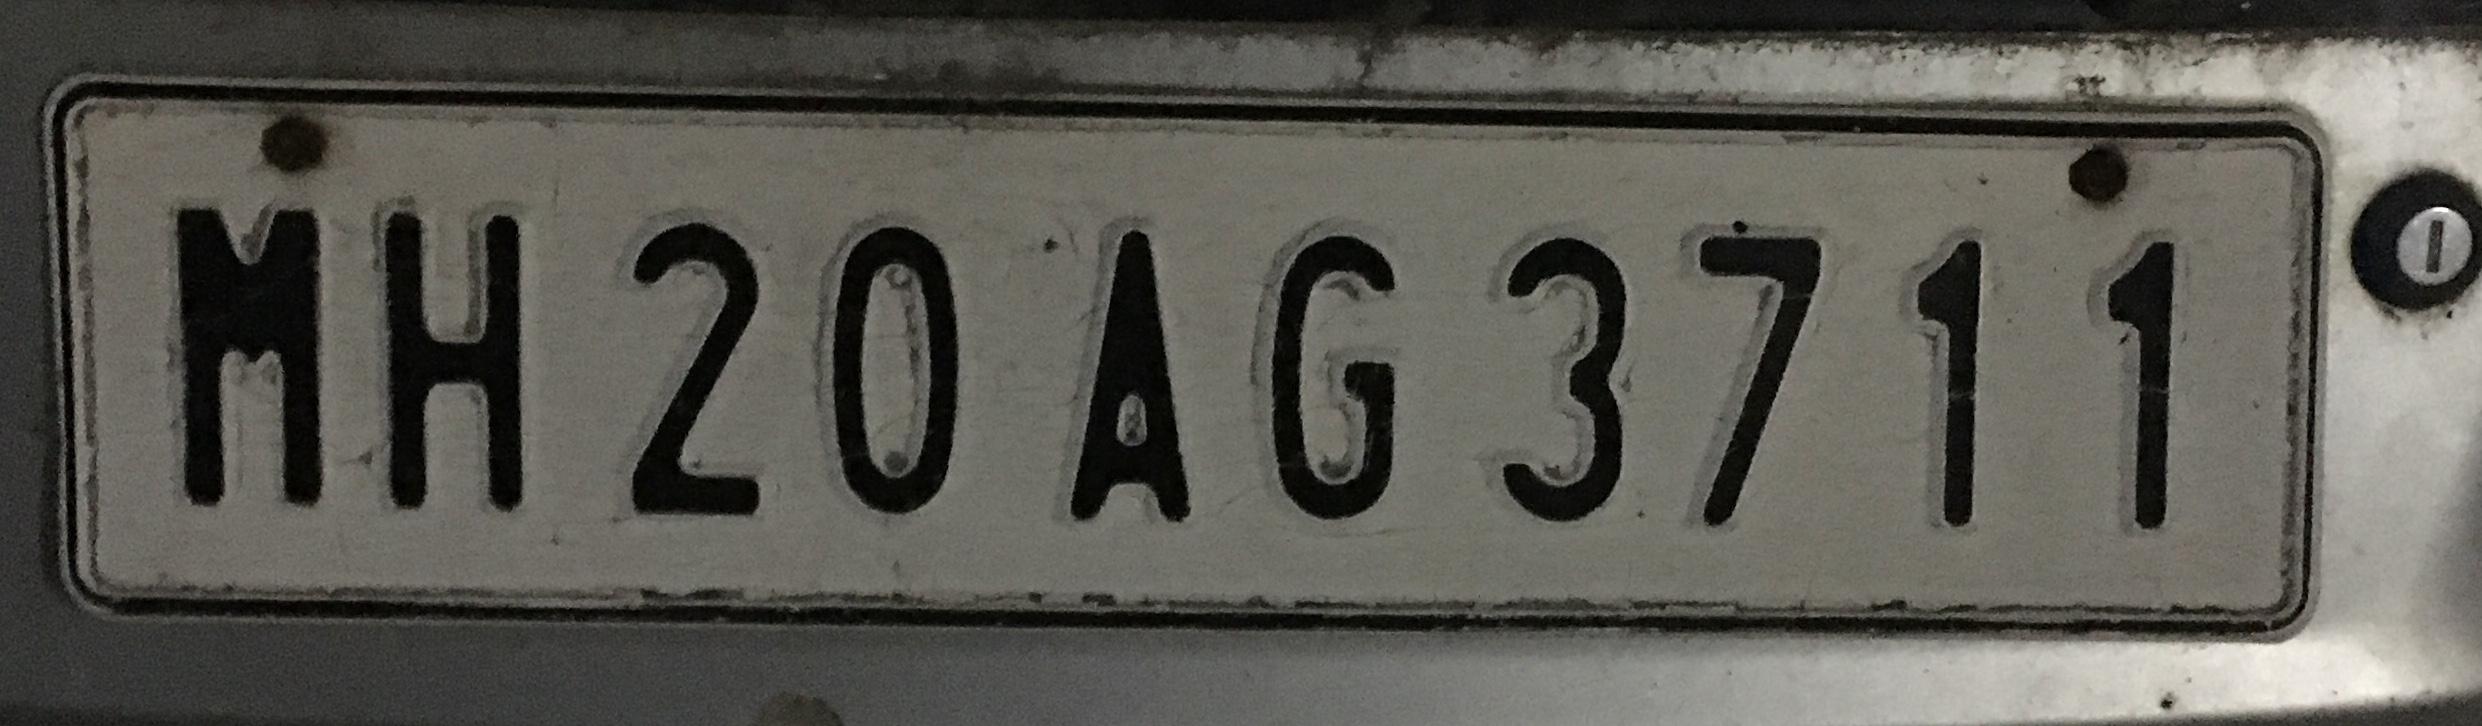numberplate: (26, 66, 2341, 648)
